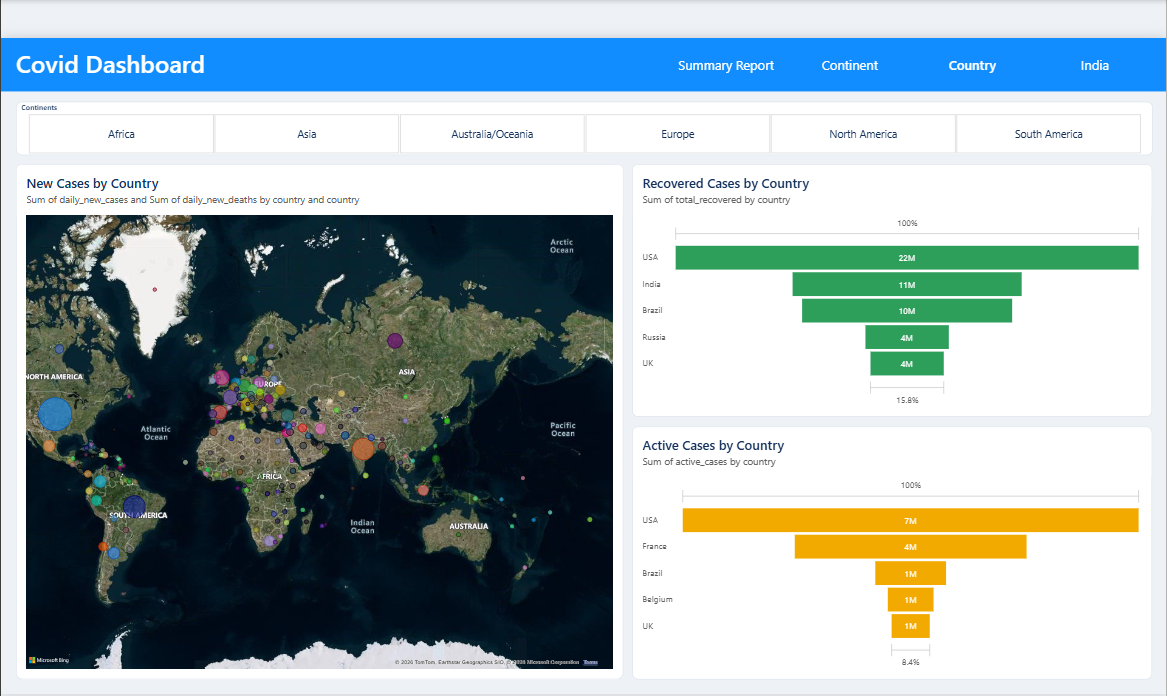

The dashboard page shown, as its layout file describes it:
{"tool":"powerbi","page":{"name":"Country","canvas":[1920,1080],"ordinal":2},"visuals":[{"type":"map","title":"New Cases by Country","fields":{"Category":["Summary Data.country"],"Size":["Sum(Daily Data.daily_new_cases)"],"Series":["Summary Data.country"]},"box":[24,208,1000,848],"z":0},{"type":"funnel","title":"Recovered Cases by Country","fields":{"Category":["Summary Data.country"],"Y":["Sum(Summary Data.total_recovered)"]},"box":[1040,208,856,416],"z":1000},{"type":"funnel","title":"Active Cases by Country","fields":{"Category":["Summary Data.country"],"Y":["Sum(Summary Data.active_cases)"]},"box":[1040,640,856,416],"z":2000},{"type":"slicer","fields":{"Values":["Summary Data.continent"]},"box":[24,104,1872,88],"z":3000},{"type":"shape","box":[0,0,1920,88],"z":20000},{"type":"textbox","box":[24,14,900,60],"z":21000},{"type":"shape","box":[1100,20,190,48],"z":22000},{"type":"shape","box":[1302,20,190,48],"z":23000},{"type":"shape","box":[1504,20,190,48],"z":24000},{"type":"shape","box":[1706,20,190,48],"z":25000}]}

Visuals, with their boxes on the page's 1920x1080 design canvas (x1, y1, x2, y2). These are canvas units, not pixel positions in the 1167x696 screenshot, which may show the page scaled, cropped or inside an application window:
"New Cases by Country" map: bbox=[24, 208, 1024, 1056]
"Recovered Cases by Country" funnel: bbox=[1040, 208, 1896, 624]
"Active Cases by Country" funnel: bbox=[1040, 640, 1896, 1056]
slicer - Summary Data.continent: bbox=[24, 104, 1896, 192]
shape: bbox=[0, 0, 1920, 88]
textbox: bbox=[24, 14, 924, 74]
shape: bbox=[1100, 20, 1290, 68]
shape: bbox=[1302, 20, 1492, 68]
shape: bbox=[1504, 20, 1694, 68]
shape: bbox=[1706, 20, 1896, 68]
